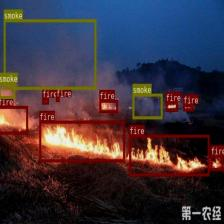fire: (38, 120, 124, 162), (129, 134, 209, 175), (0, 105, 28, 134), (99, 99, 118, 112), (210, 155, 223, 170), (166, 101, 177, 111), (183, 104, 194, 110), (42, 98, 49, 104), (55, 97, 59, 101)
smoke: (3, 19, 96, 89), (132, 92, 162, 118), (0, 82, 15, 98)
